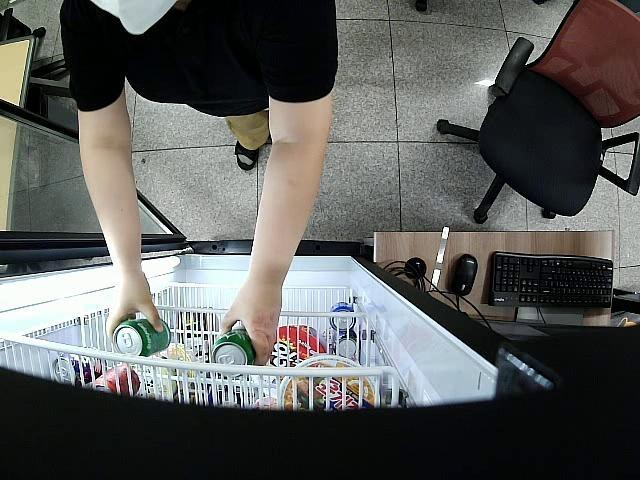12_chilsungCider: (210, 327, 256, 378), (112, 318, 170, 356)
